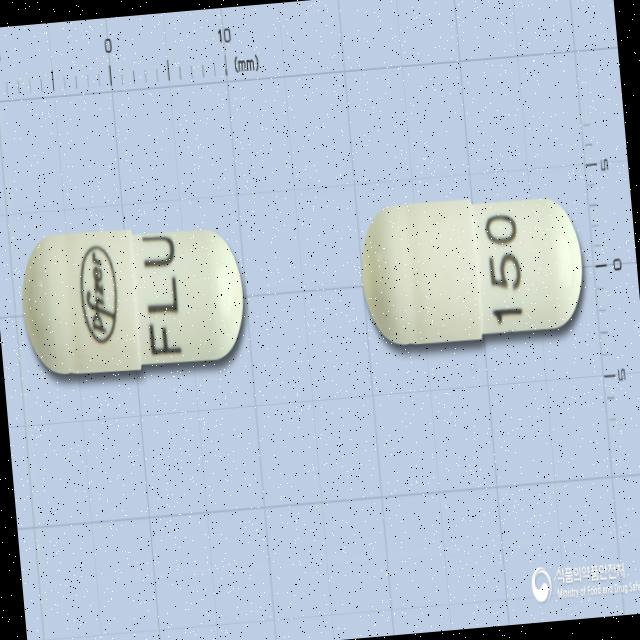Diflucan Cap: (17, 218, 250, 380), (356, 188, 588, 350)
